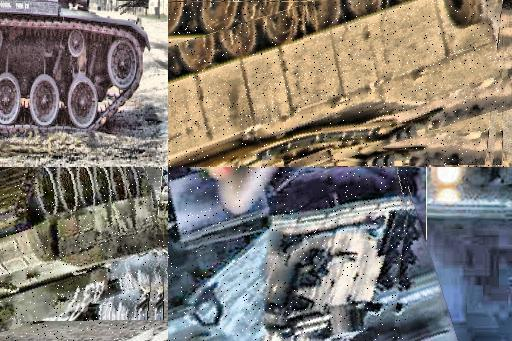tanks: (169, 1, 504, 168), (169, 168, 408, 341), (326, 168, 512, 341), (1, 168, 165, 335), (1, 1, 151, 129), (121, 1, 147, 16)
